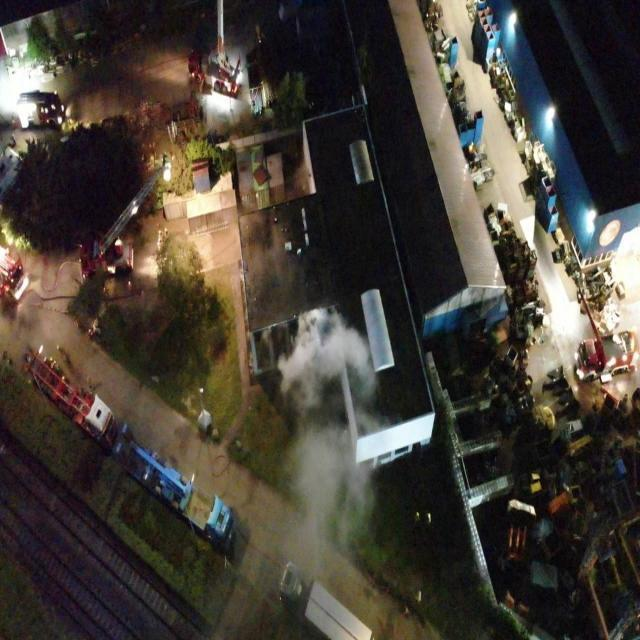Smoke: (280, 304, 380, 565), (286, 161, 310, 197)
